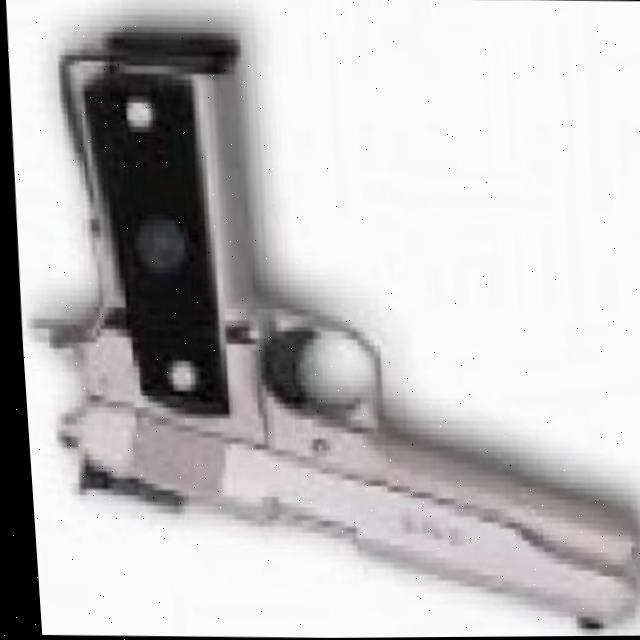gun: (11, 16, 640, 640)
